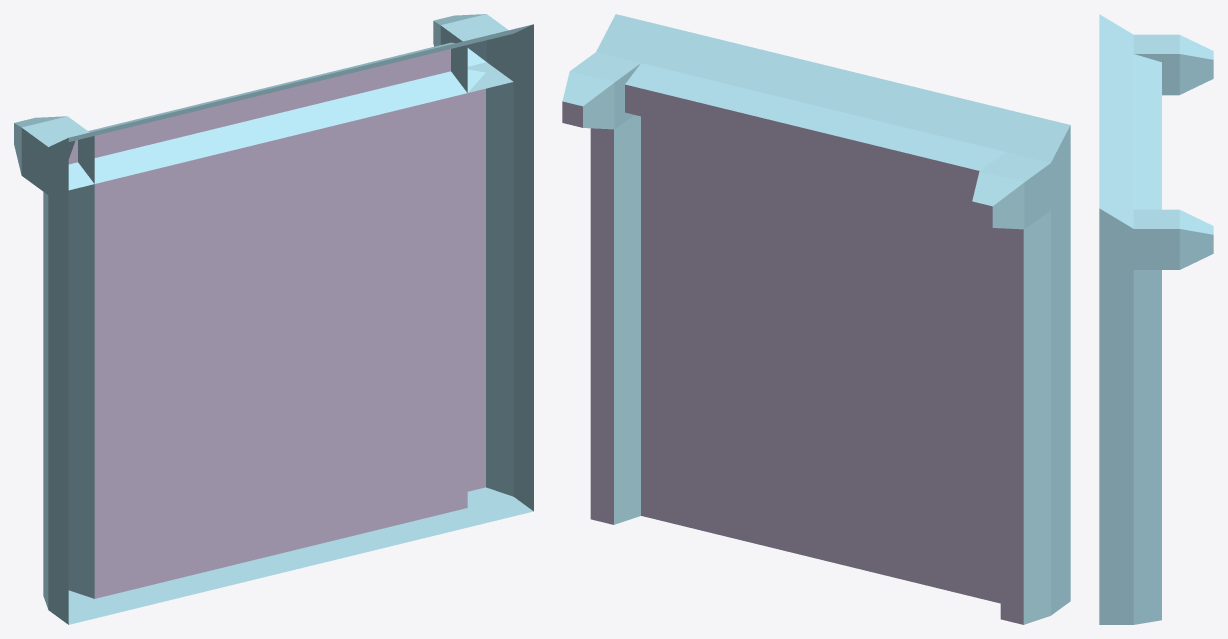
The picture shows the model from 3 angles, left to right: view 1: azimuth 30°, elevation 25°; view 2: azimuth 150°, elevation 25°; view 3: azimuth 270°, elevation 25°; orthographic projection. The views are drawn at different scales.
Visible parts, largest first — view 1: Object100; view 2: Object100; view 3: Object100.
Part boxes in pixels (x1=…): Object100: x1=14, y1=14, x2=533, y2=624; Object100: x1=562, y1=14, x2=1070, y2=624; Object100: x1=1099, y1=14, x2=1213, y2=624.
Size of the model in its own units: 39958 by 39992 by 9970.
